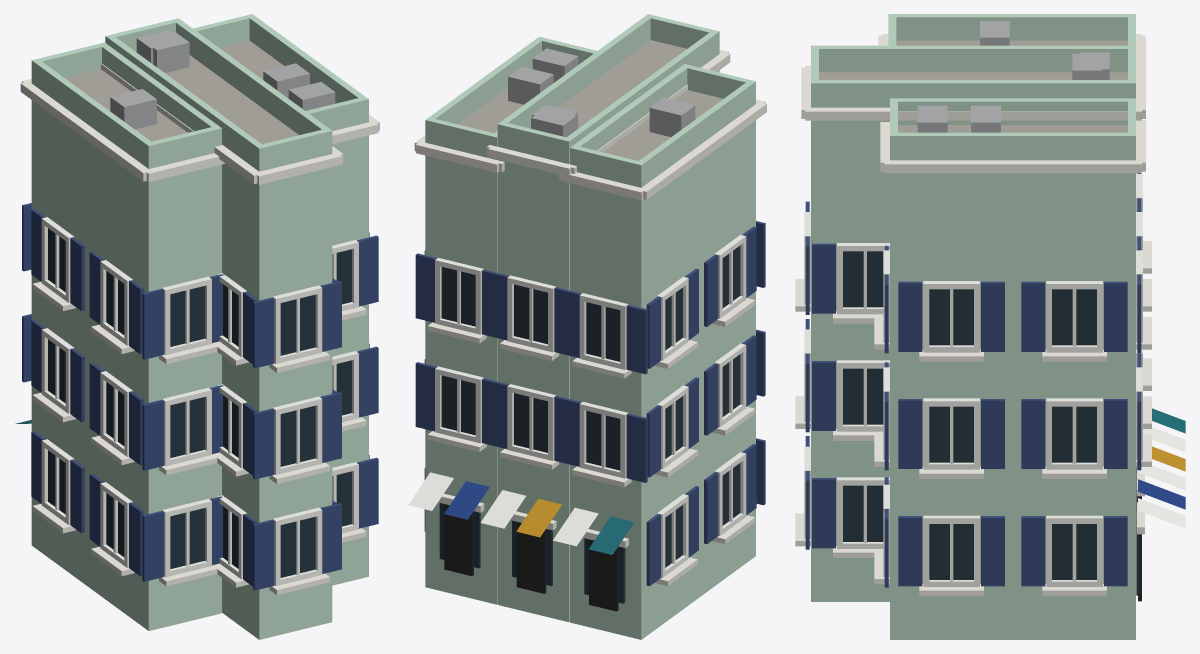
3 views of the same model, side by side, from view 1: azimuth 30°, elevation 25°; view 2: azimuth 150°, elevation 25°; view 3: azimuth 270°, elevation 25° (orthographic). The views are drawn at different scales.
Visible parts, largest first — view 1: b9774; view 2: b9774; view 3: b9774.
Boxes of the visible parts, box(x1,y1,x2,y2) form: b9774: box(15, 14, 379, 639); b9774: box(408, 14, 766, 639); b9774: box(795, 14, 1185, 639).
Bounding box in the file's own units: 3026 × 5781 × 3924.
